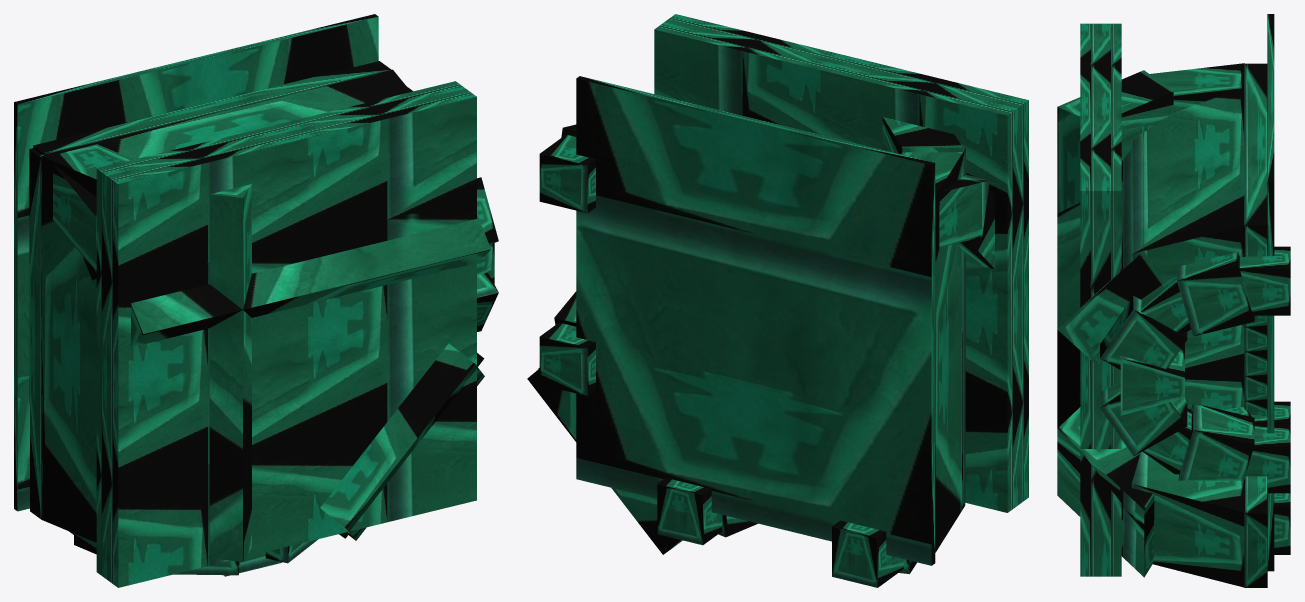
The model's file is crossing1dp_wtf.obj.
3 views of the same model, side by side, from view 1: azimuth 30°, elevation 25°; view 2: azimuth 150°, elevation 25°; view 3: azimuth 270°, elevation 25° (orthographic). The views are drawn at different scales.
Visible parts, largest first — view 1: group2; view 2: group2; view 3: group2.
Part boxes in pixels (<box>): group2: <box>14,14,498,587</box>; group2: <box>527,14,1028,587</box>; group2: <box>1057,14,1290,587</box>.
Bounding box in the file's own units: 616 × 660 × 314.
